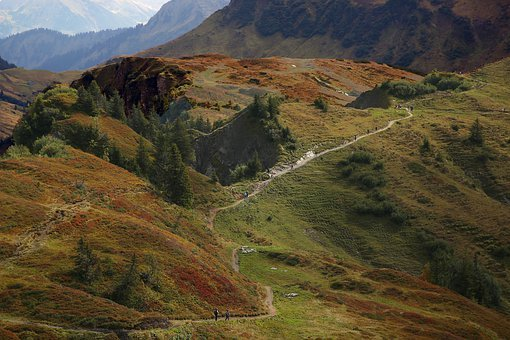mountain: (10, 59, 506, 336), (4, 2, 510, 71)
